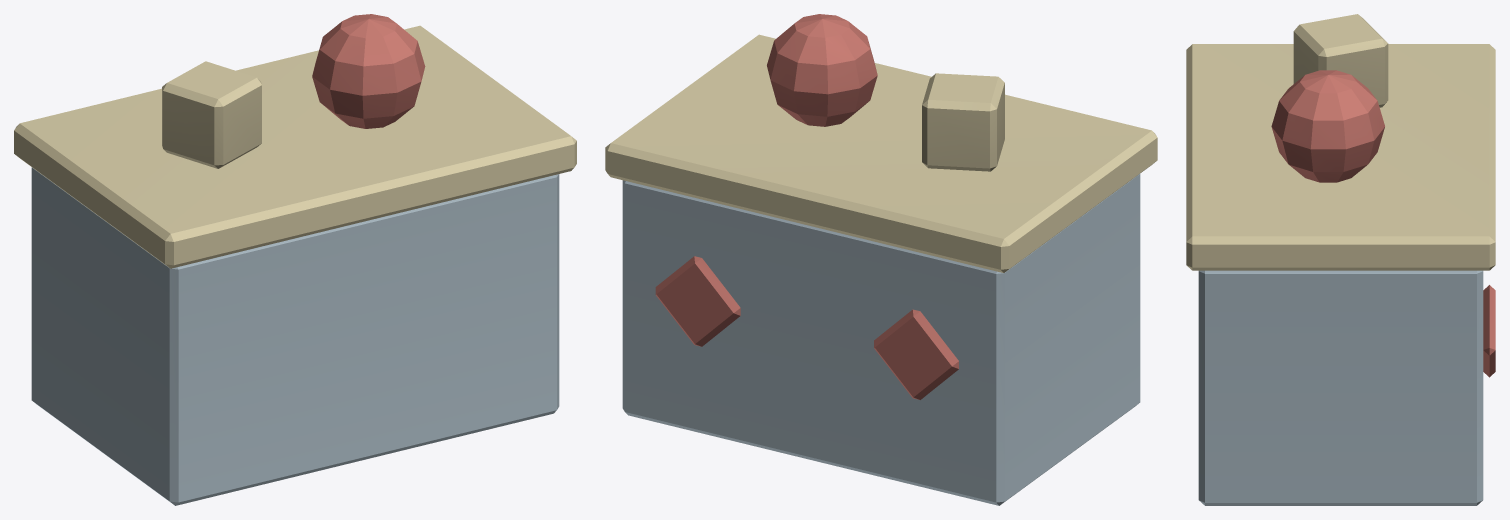
The model's file is furn_toy_box__sky.glb.
The picture shows the model from 3 angles, left to right: view 1: azimuth 30°, elevation 25°; view 2: azimuth 150°, elevation 25°; view 3: azimuth 270°, elevation 25°; orthographic projection.
Bounding box in the file's own units: 0.74 × 0.65 × 0.49.
